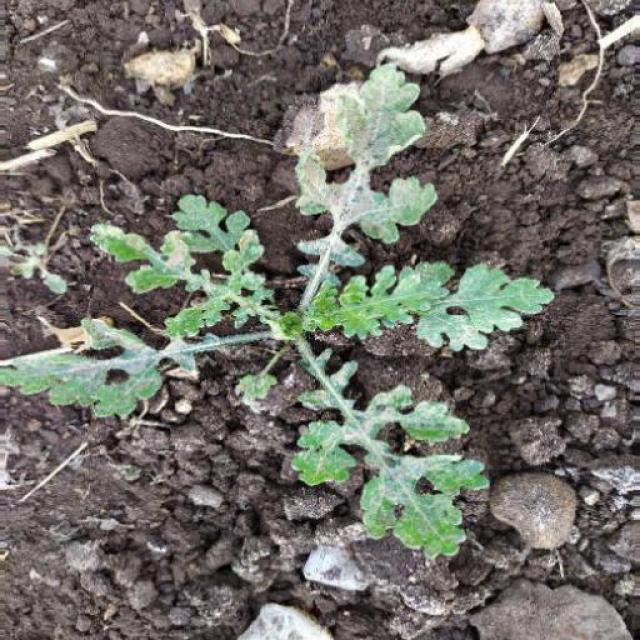weed: (15, 76, 553, 562)
